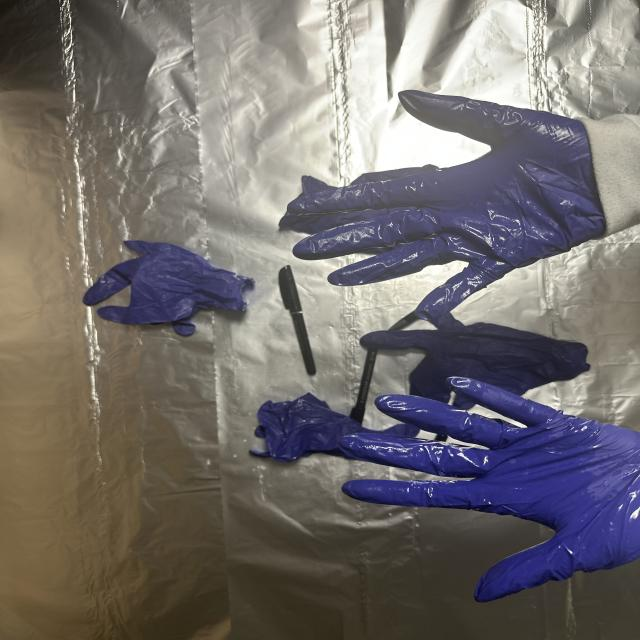gloves_contaminated: (288, 91, 604, 319), (341, 378, 640, 602)
